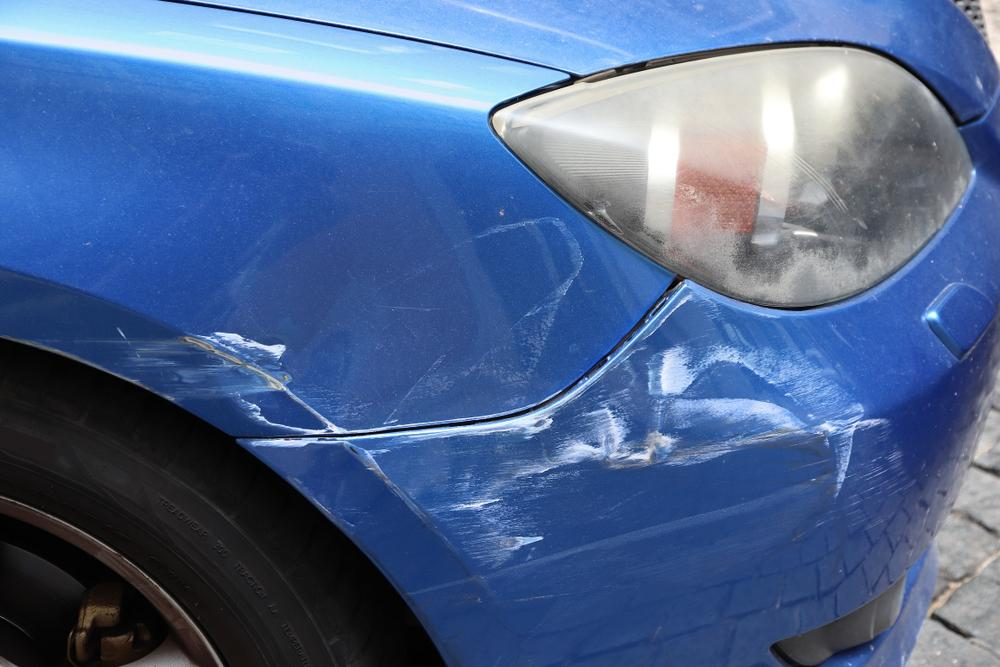scratch: (360, 345, 924, 591), (45, 212, 588, 437)
